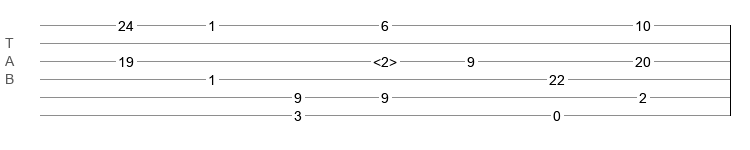0: (553, 108, 561, 118)
1: (208, 72, 216, 82), (208, 18, 216, 28)
10: (635, 18, 651, 28)
19: (118, 54, 134, 64)
2: (639, 90, 647, 100)
20: (635, 54, 651, 64)
22: (549, 72, 565, 82)
24: (118, 18, 134, 28)
3: (294, 108, 302, 118)
6: (381, 18, 389, 28)
9: (294, 90, 302, 100), (381, 90, 389, 100), (467, 54, 475, 64)
harmonic: (373, 54, 397, 64)
